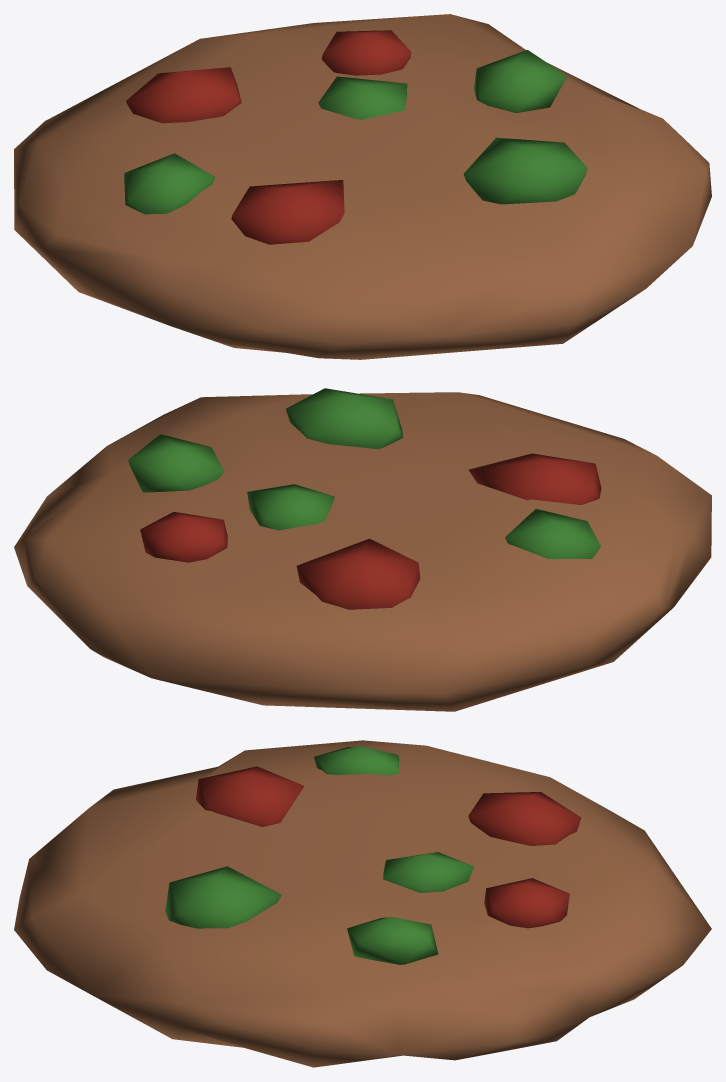
Rendered from Cookie_2.fbx.
3 renders of one model, top to bottom at view 1: azimuth 30°, elevation 25°; view 2: azimuth 150°, elevation 25°; view 3: azimuth 270°, elevation 25°, orthographic. The views are drawn at different scales.
Visible parts, largest first — view 1: Cookie_2; view 2: Cookie_2; view 3: Cookie_2.
Part boxes in pixels (x1,y1,x2,y2): Cookie_2: (14,14,711,359); Cookie_2: (14,388,711,711); Cookie_2: (14,740,711,1067).
Bounding box in the file's own units: 0.1351 × 0.0275 × 0.1397.
